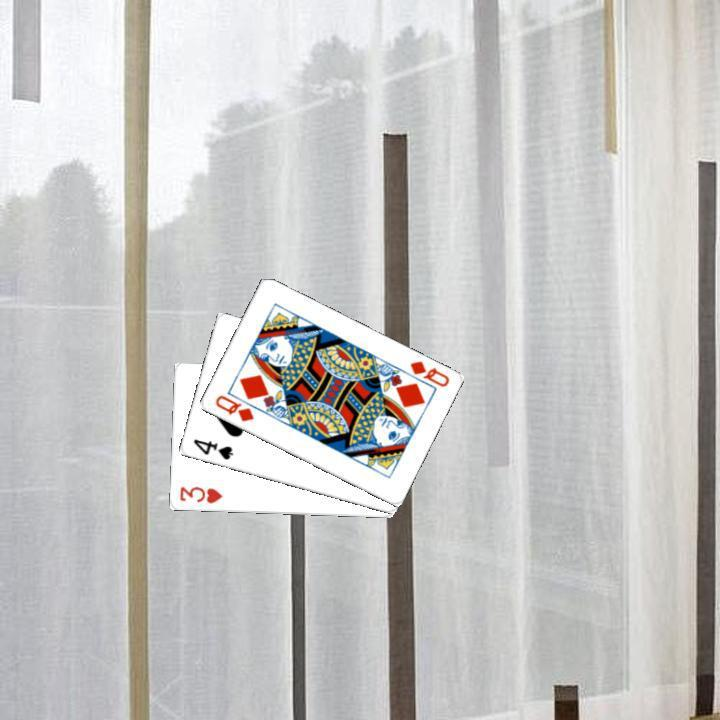3: (175, 482, 224, 505)
4: (189, 435, 235, 462)
Q: (210, 391, 256, 424), (405, 356, 451, 389)
